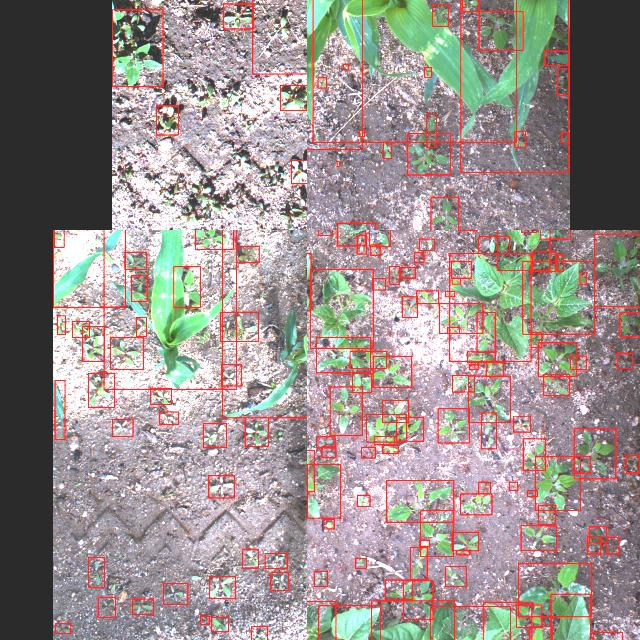crop: (312, 0, 516, 141), (102, 230, 235, 388), (460, 0, 568, 171), (221, 230, 307, 417), (450, 253, 530, 361), (307, 0, 362, 148), (52, 230, 124, 306), (522, 260, 594, 334), (310, 268, 372, 348), (370, 600, 454, 640), (430, 605, 510, 640), (318, 605, 380, 640), (550, 593, 590, 640), (483, 601, 531, 640), (307, 600, 335, 640), (54, 379, 64, 438), (544, 50, 570, 64), (561, 132, 569, 142)
weed: (518, 562, 592, 616), (111, 9, 162, 86), (594, 234, 640, 306), (386, 479, 454, 521), (536, 456, 580, 510), (574, 428, 616, 478), (496, 230, 549, 269), (316, 336, 370, 372), (468, 376, 510, 422), (479, 10, 523, 50), (307, 463, 339, 517), (408, 134, 450, 174), (329, 386, 361, 436), (420, 510, 452, 556), (438, 303, 482, 333), (538, 342, 576, 376), (372, 356, 412, 386), (220, 311, 258, 341), (402, 580, 432, 618), (172, 266, 200, 306), (366, 413, 406, 441), (110, 337, 142, 369), (438, 408, 468, 442), (430, 196, 458, 230), (88, 372, 114, 408), (520, 524, 556, 550), (522, 438, 546, 470), (82, 326, 104, 360), (223, 4, 253, 28), (476, 311, 494, 351), (194, 230, 233, 248), (245, 416, 268, 446), (348, 350, 386, 368), (280, 84, 306, 110), (396, 416, 422, 440), (461, 494, 492, 514), (155, 106, 177, 134), (202, 422, 226, 446), (480, 412, 496, 448), (162, 582, 188, 604), (209, 576, 235, 598), (208, 475, 234, 497), (516, 604, 542, 626), (382, 400, 408, 422), (543, 373, 569, 395), (384, 579, 412, 599), (409, 547, 426, 579), (478, 235, 508, 252), (619, 312, 640, 336), (87, 557, 103, 587), (532, 251, 556, 271), (452, 532, 478, 550), (221, 363, 241, 385), (336, 230, 364, 245), (445, 566, 465, 586), (351, 372, 371, 392), (452, 374, 474, 392), (130, 276, 146, 300), (111, 418, 132, 436), (236, 245, 258, 262), (291, 159, 307, 182), (450, 260, 470, 278), (432, 3, 448, 25), (264, 552, 286, 568), (124, 252, 146, 268), (368, 230, 389, 246), (270, 572, 288, 590), (528, 626, 551, 640), (426, 114, 436, 146), (98, 596, 114, 616), (132, 598, 152, 614), (242, 548, 258, 568), (150, 387, 170, 403), (538, 504, 554, 524), (557, 68, 569, 94), (416, 290, 438, 304), (337, 222, 375, 230), (210, 616, 228, 632), (589, 526, 607, 542), (512, 415, 530, 431), (467, 351, 495, 361), (402, 296, 416, 316), (593, 631, 623, 640), (72, 321, 88, 337), (574, 456, 590, 472), (616, 352, 632, 368), (307, 449, 313, 491), (587, 535, 601, 553), (485, 362, 503, 376), (158, 412, 178, 424), (251, 626, 267, 640), (313, 570, 327, 586), (570, 355, 586, 369), (607, 536, 619, 554), (136, 316, 146, 336), (316, 437, 334, 448), (514, 131, 526, 147), (418, 238, 434, 250), (626, 456, 638, 472), (356, 234, 366, 253), (389, 265, 399, 283), (462, 0, 478, 11), (307, 252, 310, 309), (530, 332, 542, 346), (400, 266, 414, 278), (54, 623, 70, 633), (56, 314, 64, 334), (53, 230, 63, 246), (373, 436, 393, 444), (356, 494, 369, 506), (478, 481, 490, 493), (372, 277, 384, 289), (321, 446, 335, 456), (360, 447, 374, 457), (383, 142, 391, 158), (354, 557, 366, 567), (382, 444, 396, 452), (316, 77, 326, 87), (323, 518, 333, 528), (413, 252, 423, 262), (369, 243, 378, 254), (557, 254, 563, 270), (508, 481, 518, 489), (580, 271, 586, 283), (447, 327, 459, 333), (424, 67, 431, 77), (200, 615, 208, 623), (419, 539, 429, 545), (527, 490, 537, 496), (450, 277, 460, 283), (444, 290, 454, 296), (316, 230, 331, 234), (456, 550, 469, 554), (358, 130, 364, 136), (469, 364, 478, 368), (342, 64, 348, 68), (336, 160, 338, 166)
